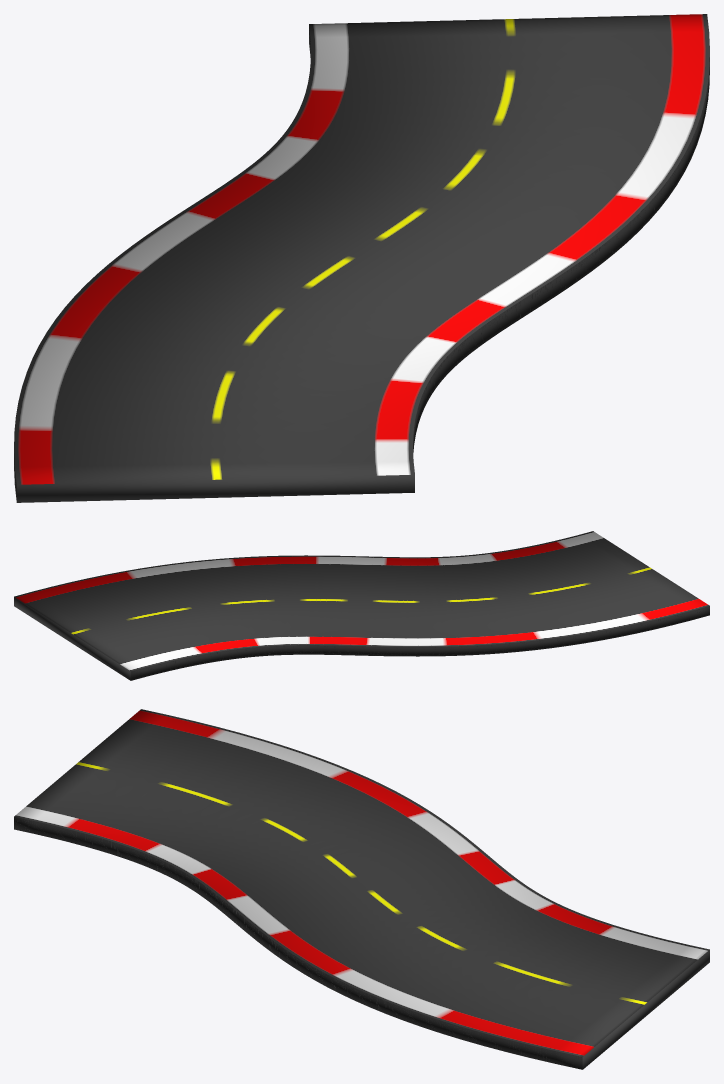
The model's file is S6Right.fbx.
The picture shows the model from 3 angles, top to bottom: view 1: azimuth 30°, elevation 25°; view 2: azimuth 150°, elevation 25°; view 3: azimuth 270°, elevation 25°; orthographic projection. The views are drawn at different scales.
Parts seen in each view (by area): view 1: NurbsPath; view 2: NurbsPath; view 3: NurbsPath.
Boxes of the visible parts, x1,y1,x2,y2 form: NurbsPath: (14,14,709,502); NurbsPath: (14,531,709,680); NurbsPath: (14,709,709,1069).
Bounding box in the file's own units: 579 × 10 × 489.
1 material, 1 textured.
